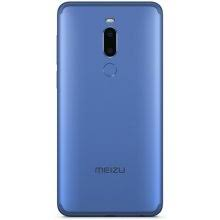meizu: (54, 1, 166, 218)
